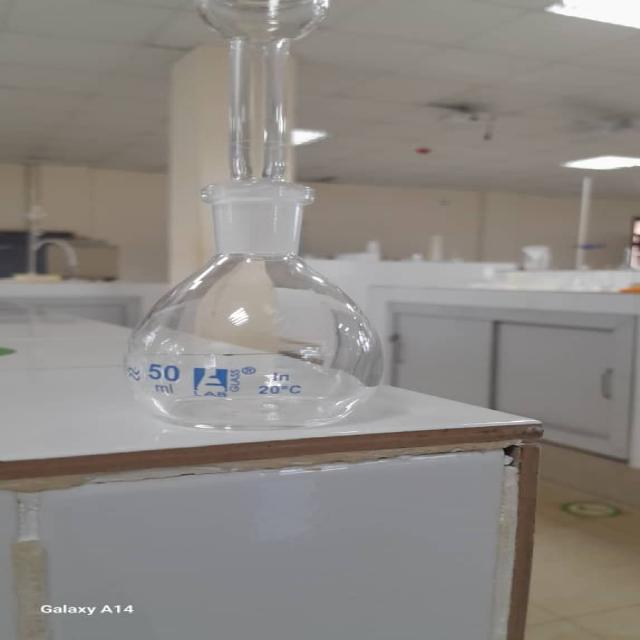Density Bottles for Solids: (114, 3, 374, 436)
